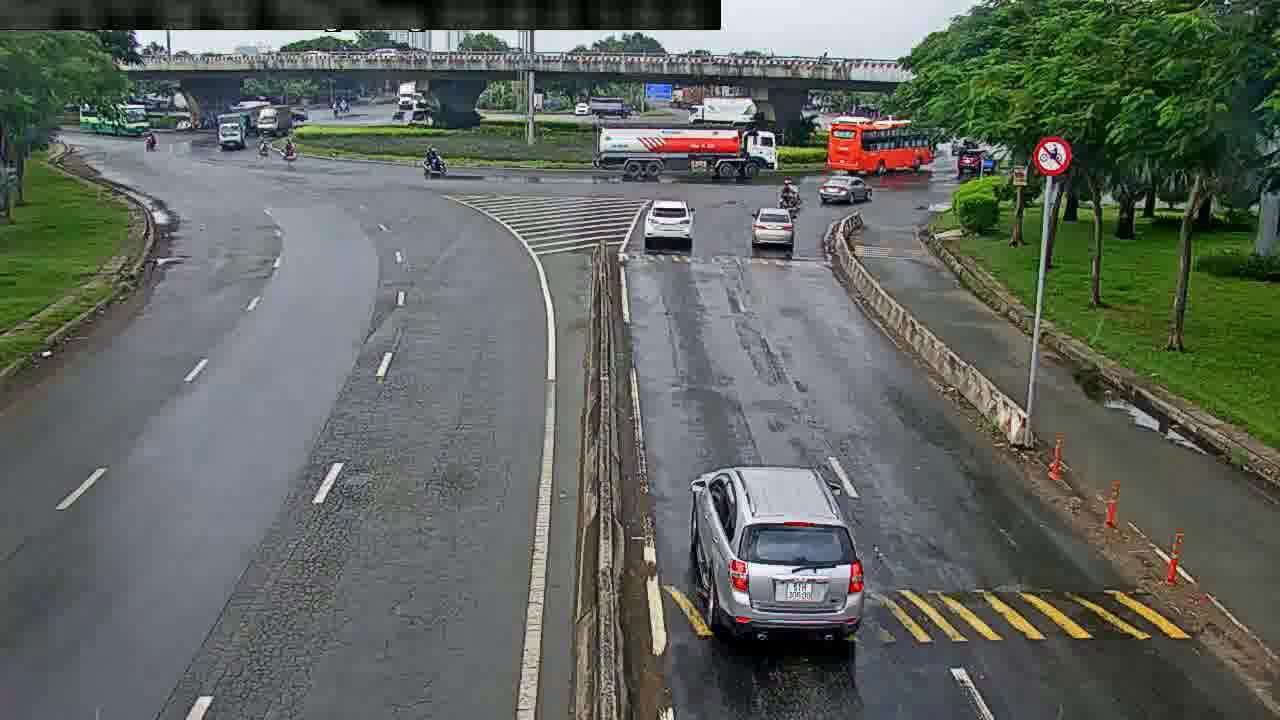14: (825, 116, 935, 169)
8: (589, 109, 788, 184)
container: (687, 460, 865, 639), (640, 199, 699, 250), (750, 200, 797, 252), (816, 173, 877, 203)
motorbike: (777, 185, 802, 219), (424, 146, 449, 178)
